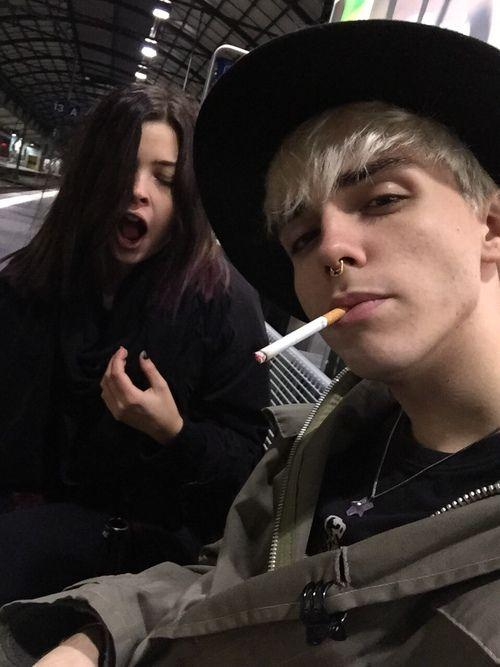cigarette: (252, 306, 348, 364)
